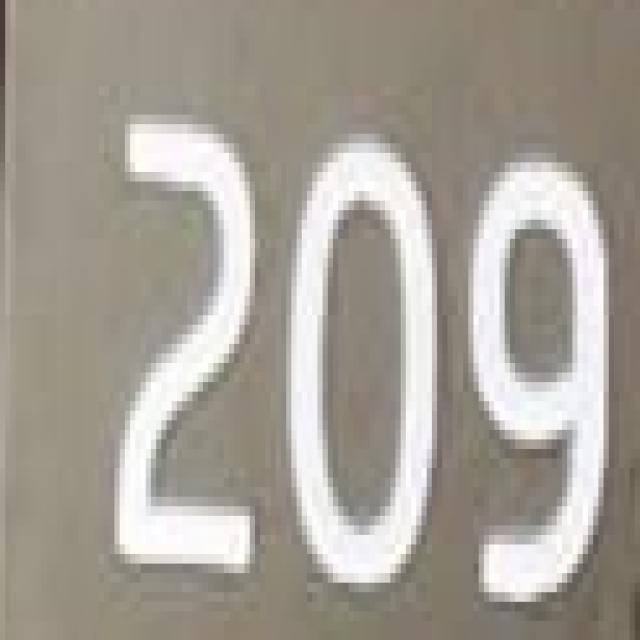character: (110, 109, 262, 585), (286, 129, 440, 595), (468, 147, 614, 614)
